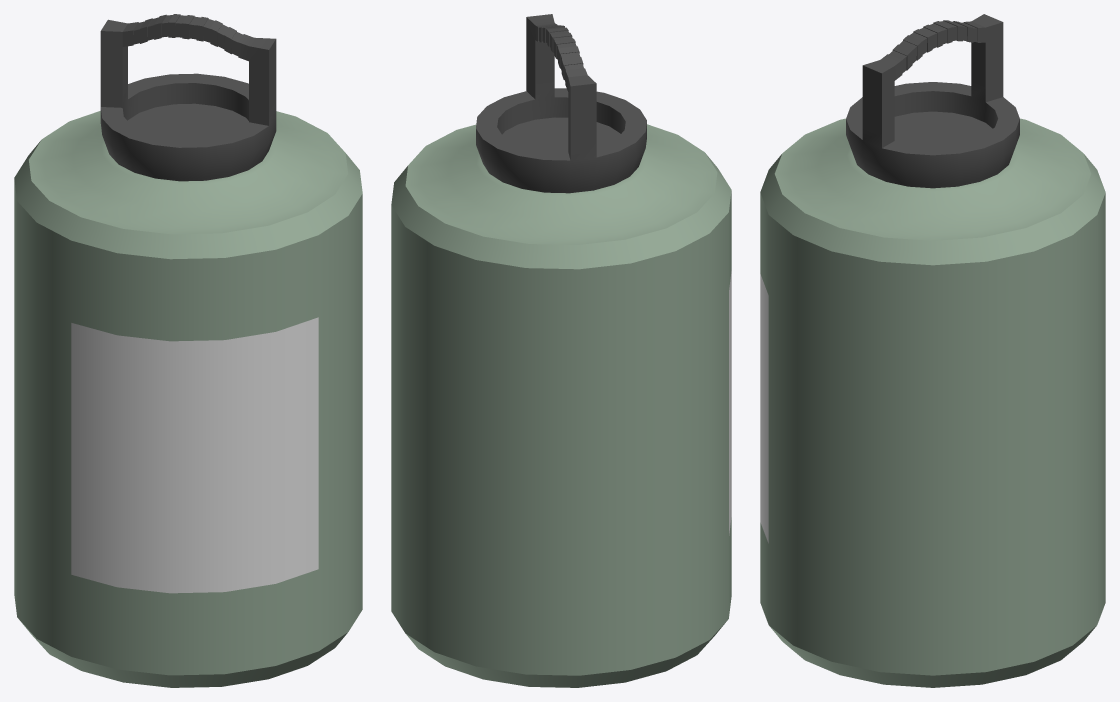
The model's file is Sprayer1.fbx.
3 renders of one model, left to right at view 1: azimuth 30°, elevation 25°; view 2: azimuth 150°, elevation 25°; view 3: azimuth 270°, elevation 25°, orthographic. The views are drawn at different scales.
Parts seen in each view (by area): view 1: pCylinder4; view 2: pCylinder4; view 3: pCylinder4.
Part boxes in pixels (x1,y1,x2,y2): pCylinder4: [14, 14, 362, 687]; pCylinder4: [391, 14, 731, 687]; pCylinder4: [760, 14, 1105, 687].
Bounding box in the file's own units: 1.4 × 2.65 × 1.4.
